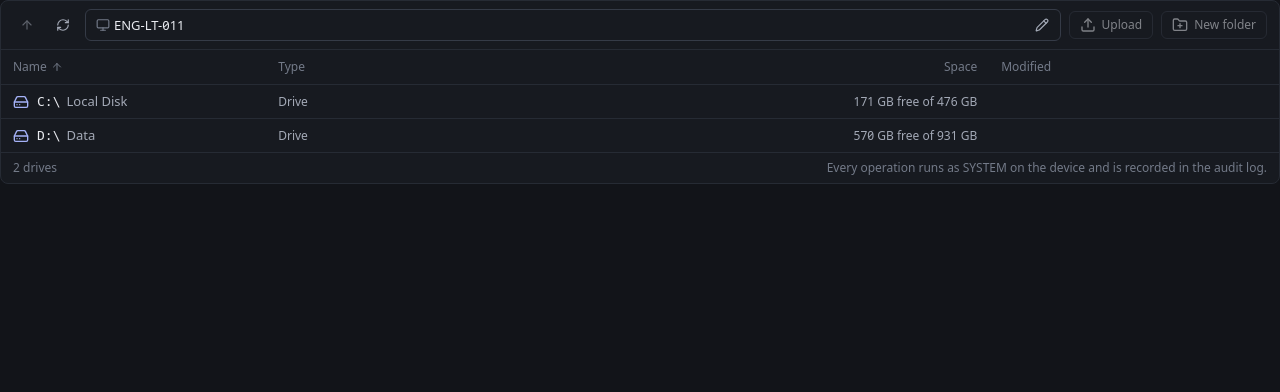
it: FileManager permission-driven controls › full access: Upload and New folder, plus per-row actions
Check: the button "Upload" is shown, box x1=1069 y1=11 x2=1153 y2=39
Check: the button "New folder" is shown, box x1=1161 y1=11 x2=1267 y2=39
Click the text "C:\\" at x=49, y=102, box x1=37 y1=94 x2=60 y2=109
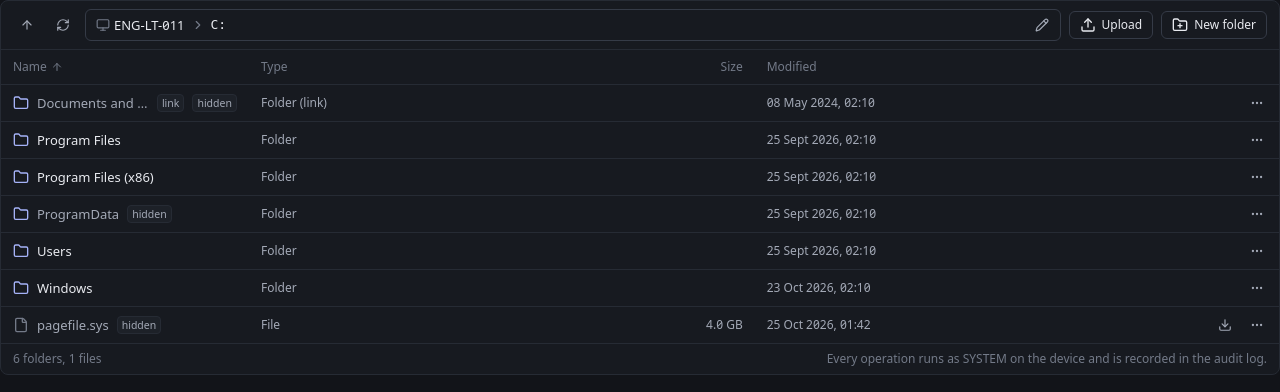
Check: the button "Users" is shown, box x1=37 y1=241 x2=72 y2=261
Check: the button named "More actions for" is shown, box x1=1243 y1=89 x2=1271 y2=117
